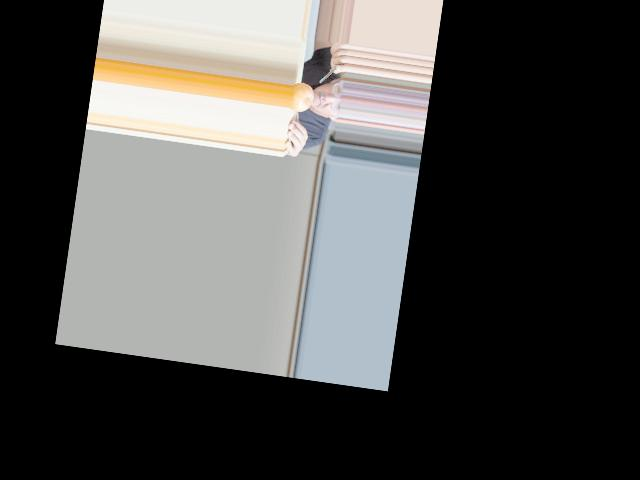onion: (289, 81, 315, 114)
